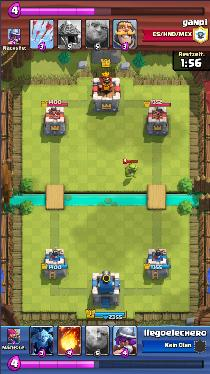ally_goblin_cage: (124, 163, 139, 179)
